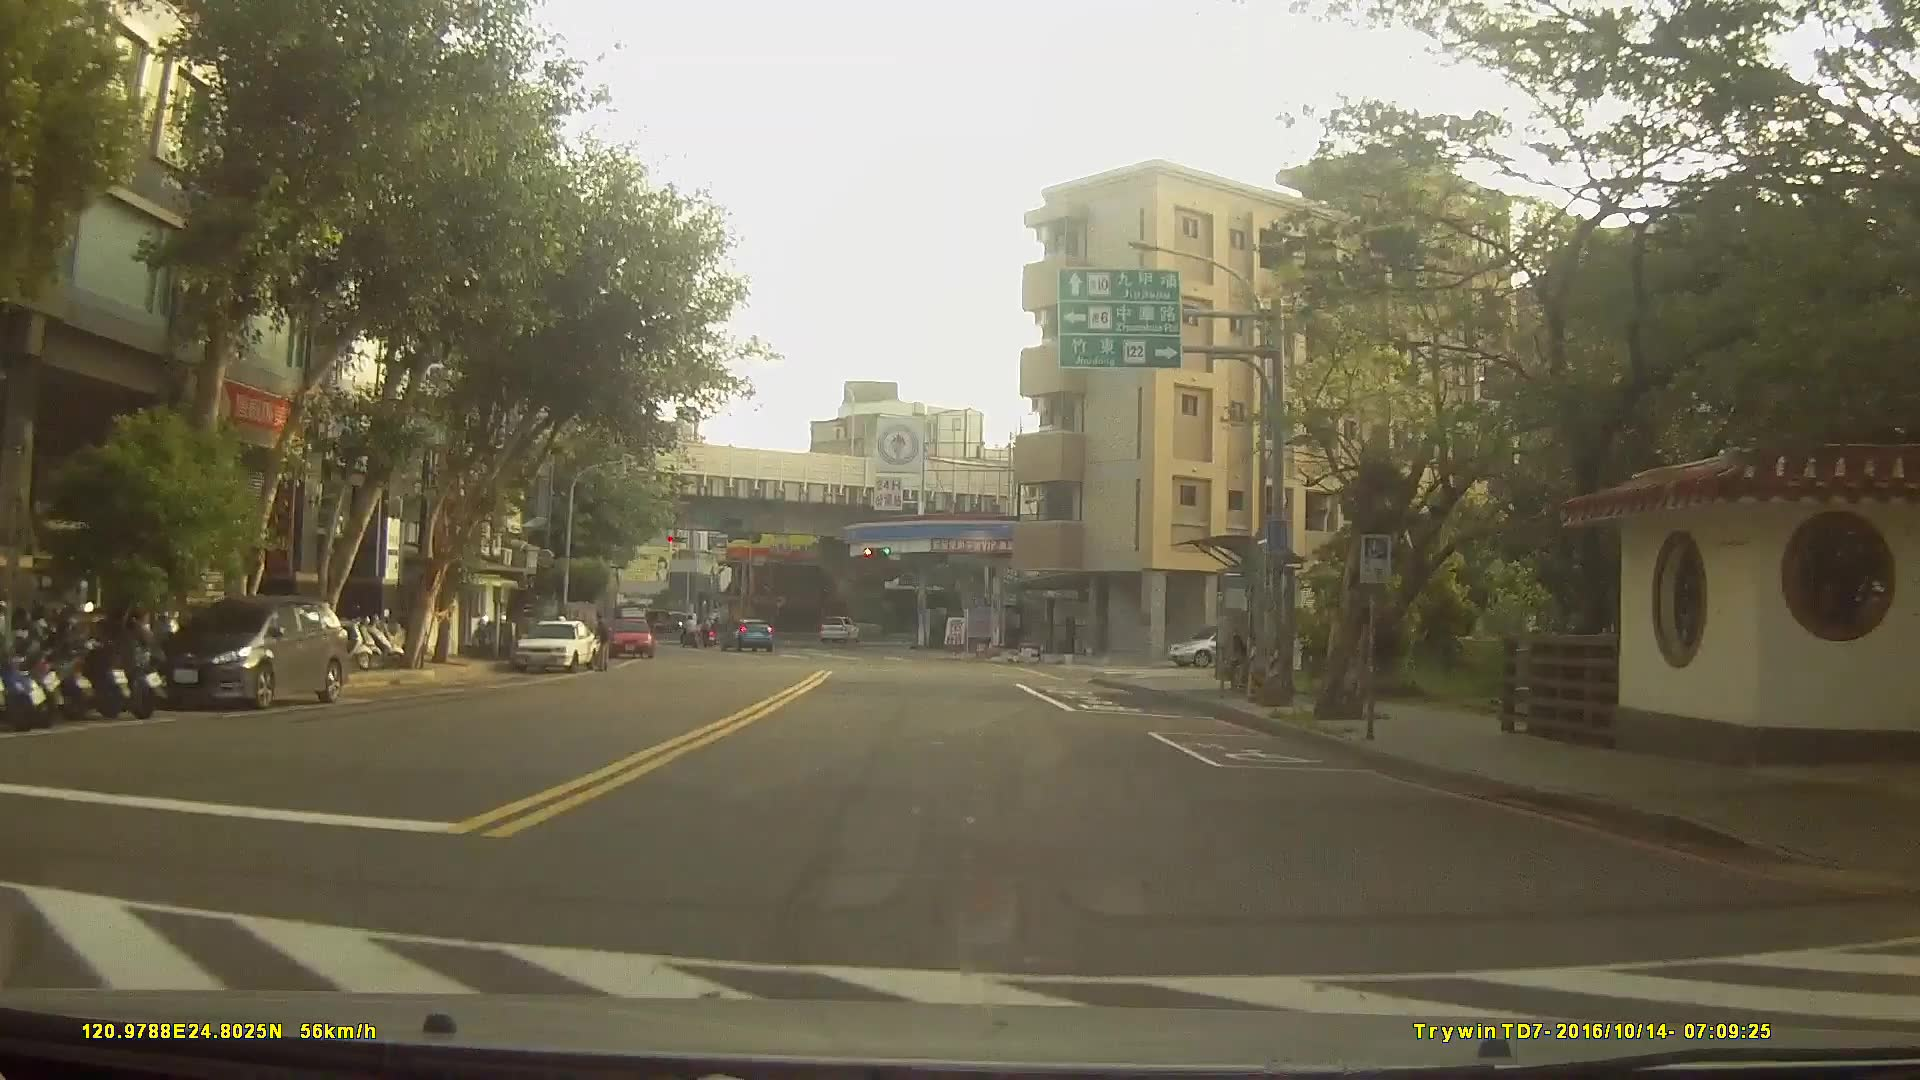rider: (677, 614, 700, 651)
vehicle: (150, 591, 345, 707), (514, 617, 600, 673), (1167, 624, 1261, 669), (607, 613, 652, 659), (721, 616, 774, 652), (819, 613, 860, 641)
